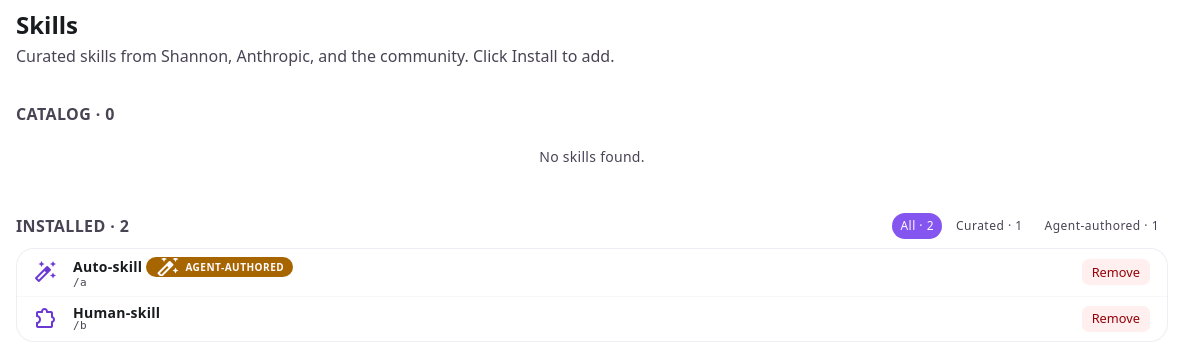
Test: Skills (P3 federated catalog) › filtering by Agent-authored hides curated entries
expect the text "Auto-skill" is shown: met, box [73,260,142,274]
Click the tab "Agent-authored · 1" at (1102,226), box [1036,212,1168,240]
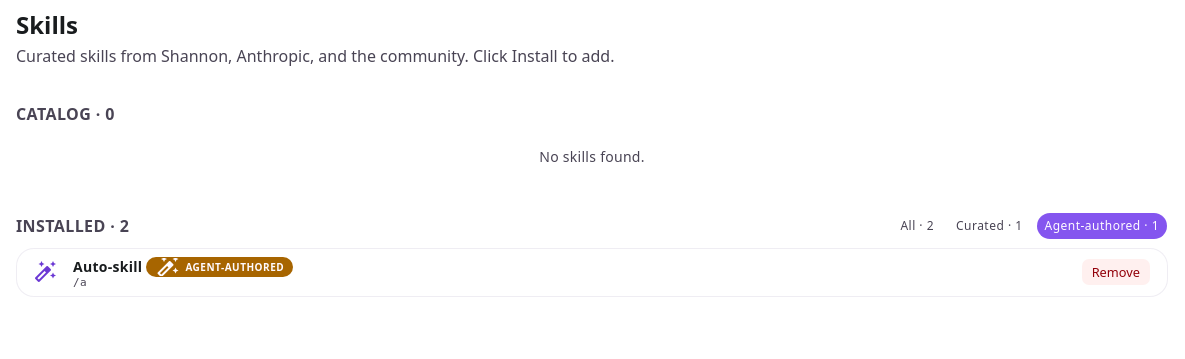
expect the text "Auto-skill" is shown: met, box [73,260,142,274]
expect the text "Human-skill" is gone: met
